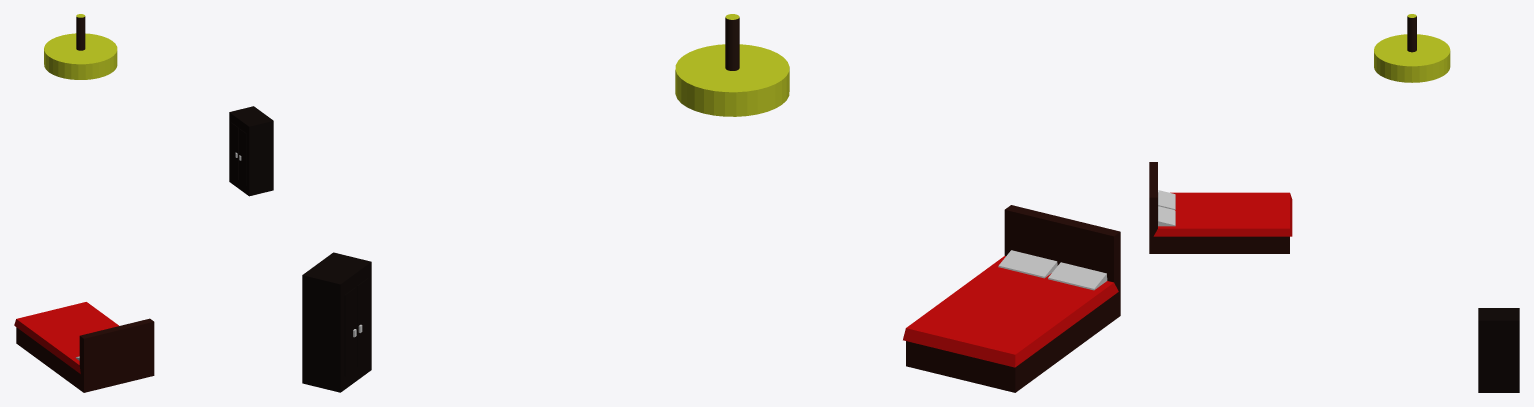
File: bedRoom.obj
3 views of the same model, side by side, from view 1: azimuth 30°, elevation 25°; view 2: azimuth 150°, elevation 25°; view 3: azimuth 270°, elevation 25° (orthographic). The views are drawn at different scales.
Visible parts, largest first — view 1: Cube, Cube.005, Cylinder; view 2: Cube, Cube.005, Cylinder; view 3: Cube, Cube.005, Cylinder.
Boxes of the visible parts, bbox=[...] form: Cube: bbox=[14, 302, 154, 392]; Cube.005: bbox=[229, 106, 273, 196]; Cylinder: bbox=[44, 14, 117, 79]; Cube: bbox=[903, 205, 1120, 392]; Cube.005: bbox=[302, 252, 371, 392]; Cylinder: bbox=[675, 14, 789, 116]; Cube: bbox=[1149, 162, 1292, 253]; Cube.005: bbox=[1478, 308, 1519, 392]; Cylinder: bbox=[1374, 14, 1450, 82].
Size of the model in its own units: 29.76 by 20.75 by 26.3.
